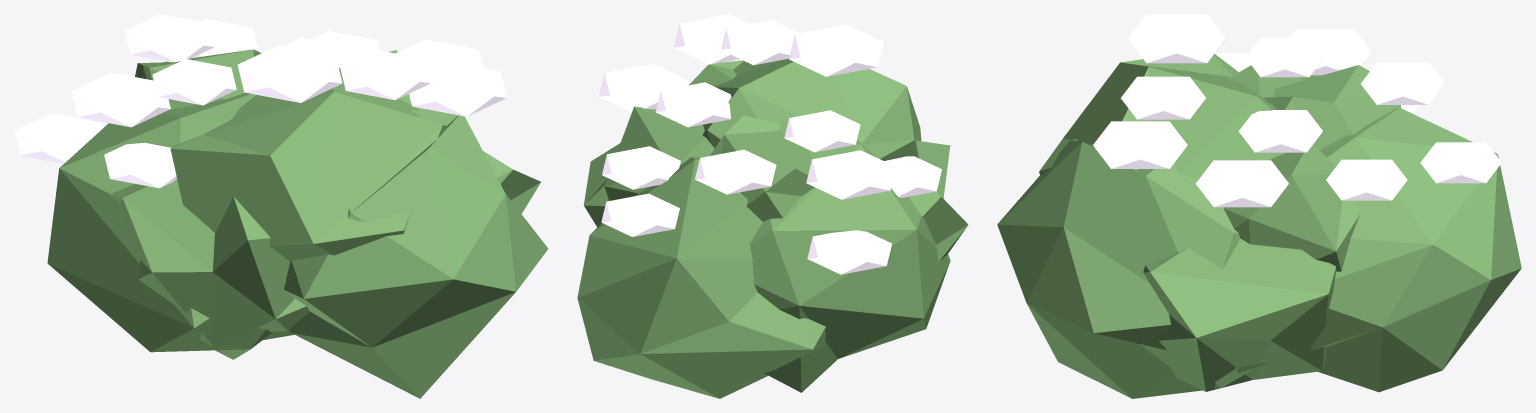
File: bloom-bush.glb
3 views of the same model, side by side, from view 1: azimuth 30°, elevation 25°; view 2: azimuth 150°, elevation 25°; view 3: azimuth 270°, elevation 25° (orthographic). The views are drawn at different scales.
Visible parts, largest first — view 1: Leaves, Fruit; view 2: Leaves, Fruit; view 3: Leaves, Fruit.
Boxes of the visible parts, <box> form: Leaves: <box>47,49,548,398</box>; Fruit: <box>14,14,506,188</box>; Leaves: <box>577,58,968,398</box>; Fruit: <box>598,14,941,274</box>; Leaves: <box>997,54,1521,398</box>; Fruit: <box>1093,14,1501,207</box>.
Bounding box in the file's own units: 0.7877 × 0.603 × 0.85.
